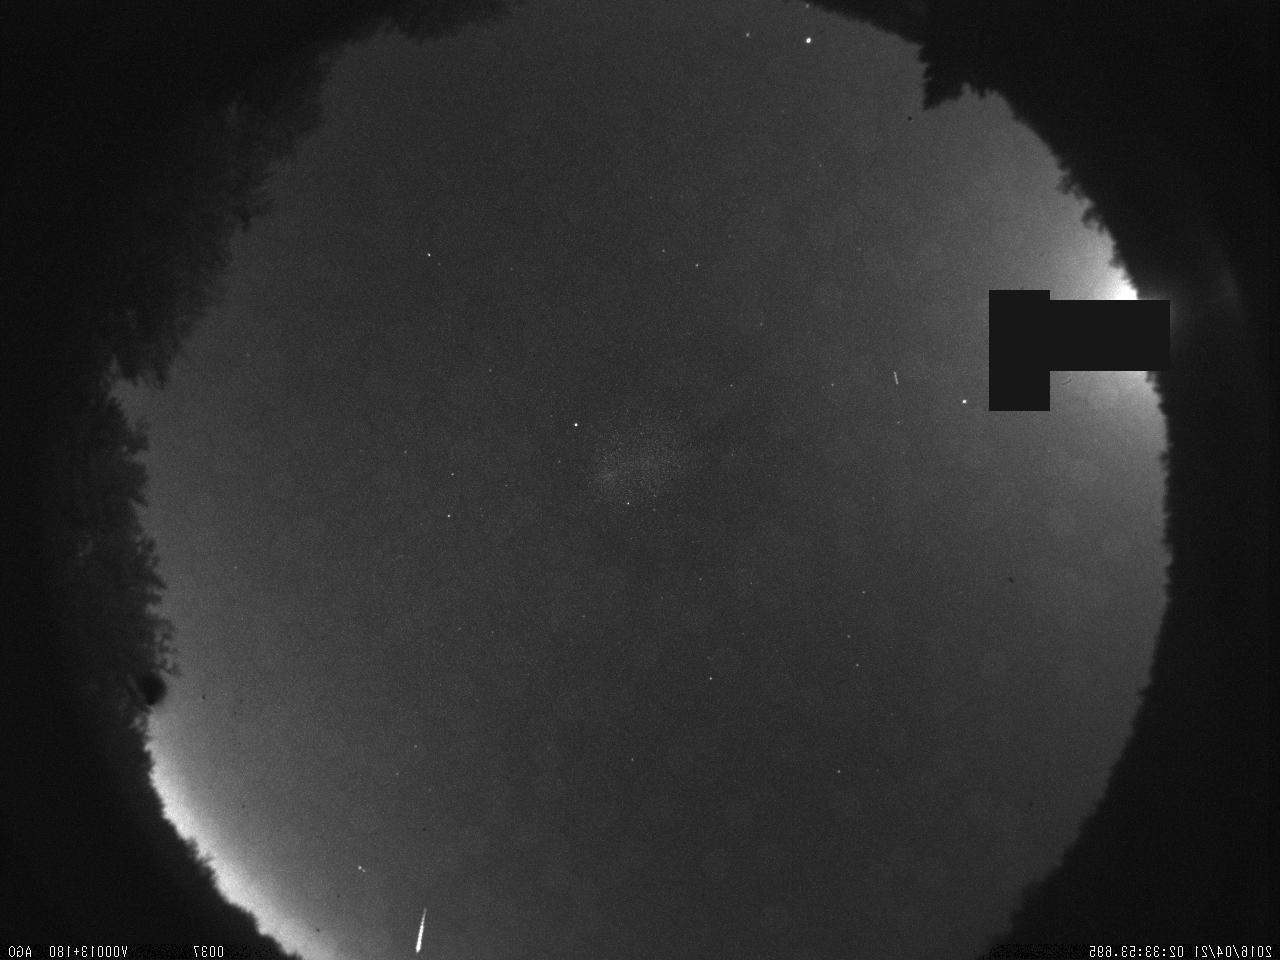meteor: (408, 903, 432, 956), (889, 365, 902, 392)
